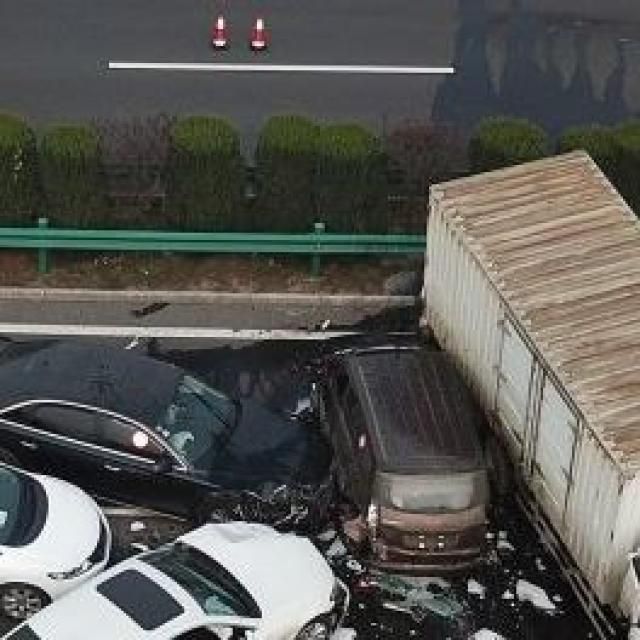traffic_incident: (0, 485, 347, 637), (325, 325, 521, 582), (0, 344, 313, 497)
